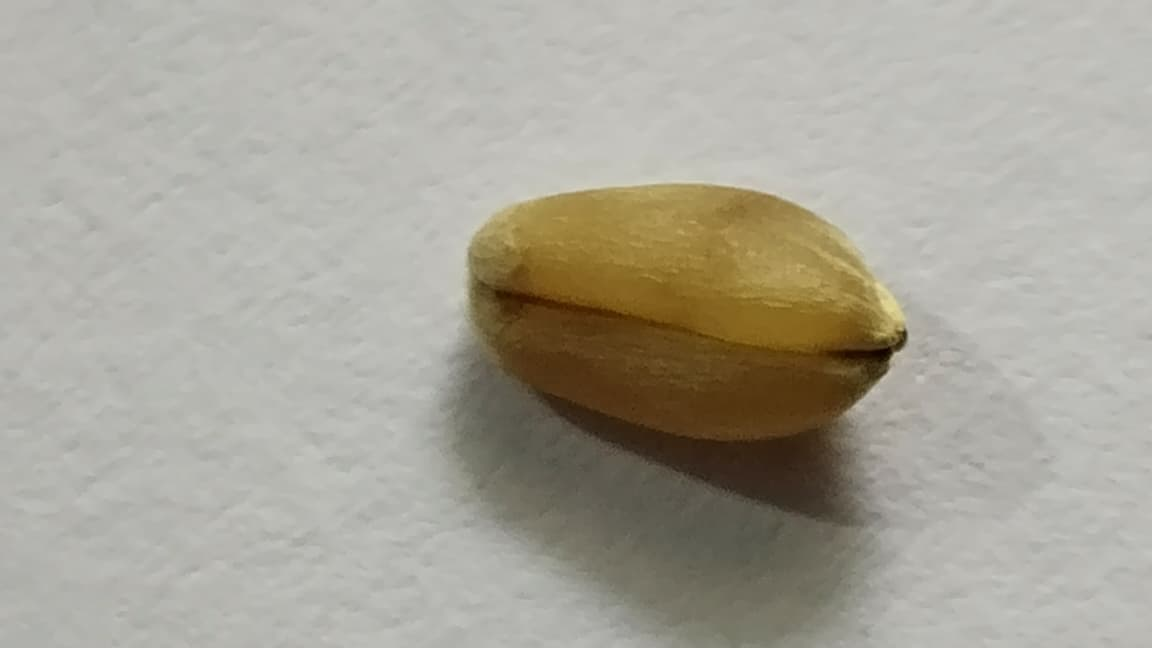healthy: (469, 183, 905, 439)
